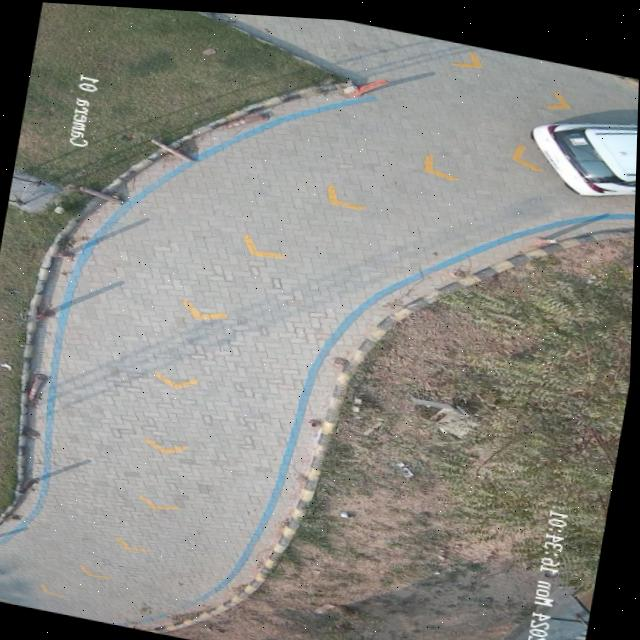car: (532, 115, 638, 189)
